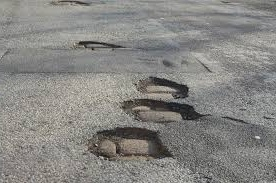pothole: (87, 125, 174, 163), (119, 98, 213, 119), (123, 74, 192, 97), (76, 40, 124, 49), (48, 0, 92, 9)
